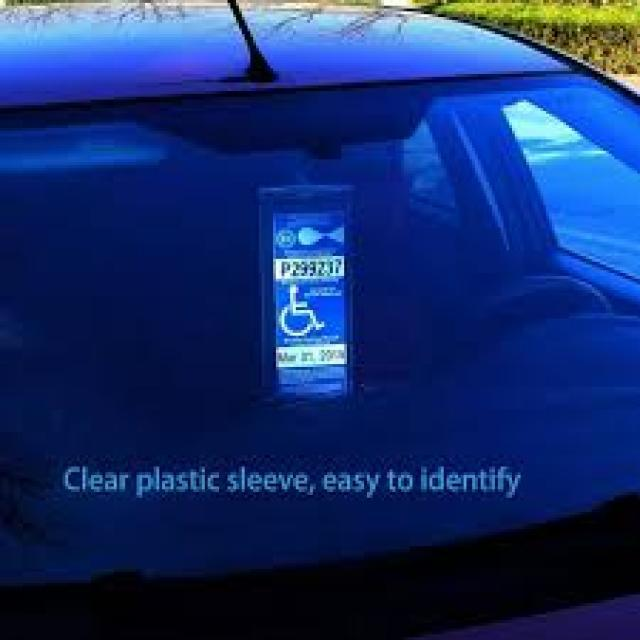symbol_of_access: (278, 284, 326, 338)
